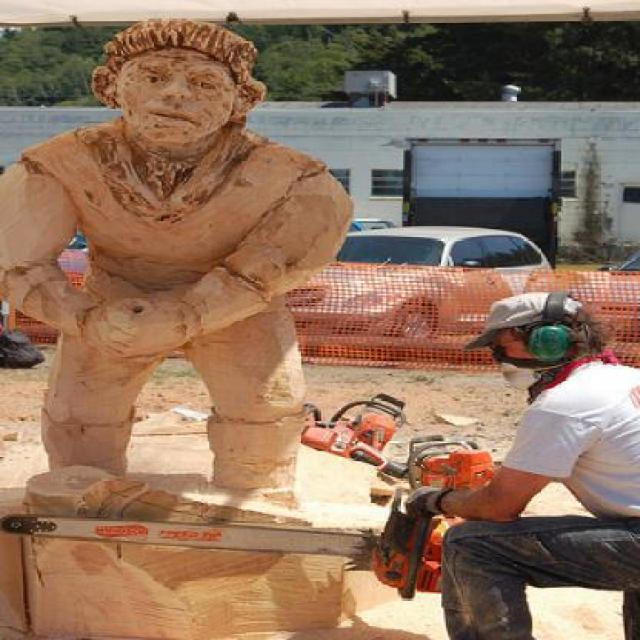Chainsaw: (5, 488, 452, 604)
